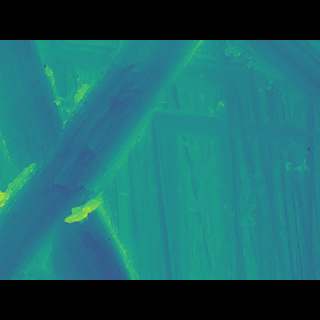Loch: (0, 69, 208, 244)
